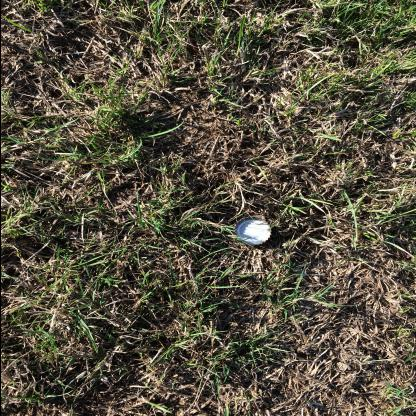metal: (233, 216, 270, 246)
